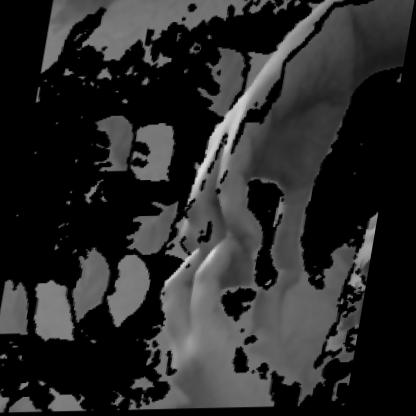heart: (150, 52, 359, 374)
